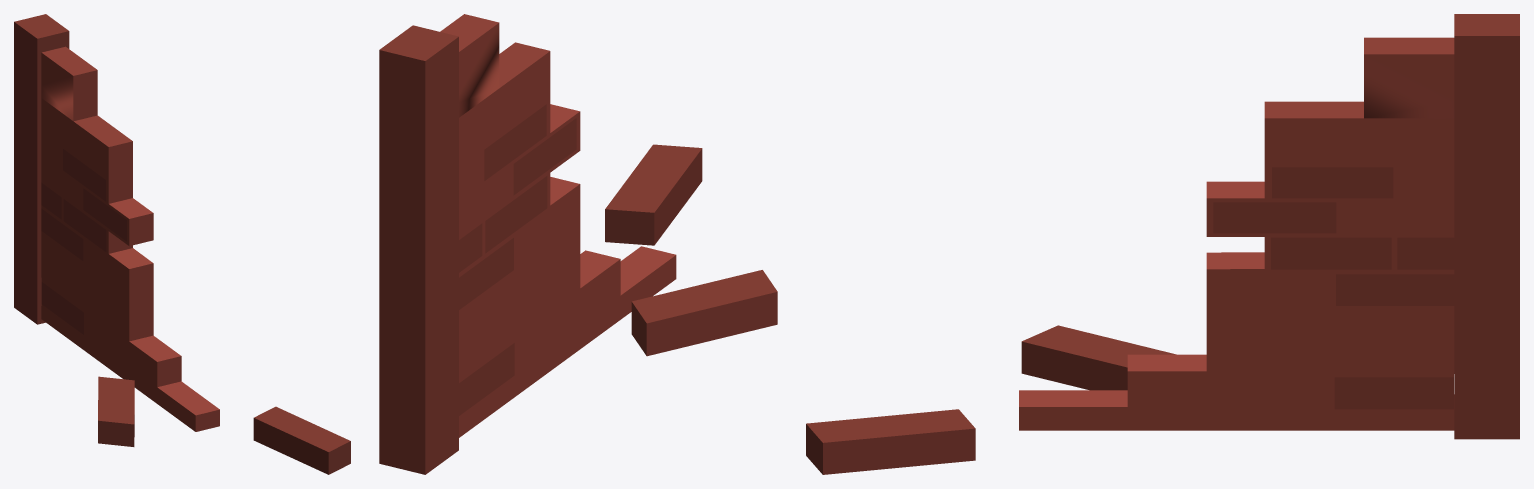
The model's file is Fence_Brick_Damaged_01.fbx.
3 views of the same model, side by side, from view 1: azimuth 30°, elevation 25°; view 2: azimuth 150°, elevation 25°; view 3: azimuth 270°, elevation 25° (orthographic). The views are drawn at different scales.
Parts seen in each view (by area): view 1: Fence_Brick_Damaged_01; view 2: Fence_Brick_Damaged_01; view 3: Fence_Brick_Damaged_01.
Boxes of the visible parts, <box> form: Fence_Brick_Damaged_01: <box>14,14,350,474</box>; Fence_Brick_Damaged_01: <box>379,14,777,474</box>; Fence_Brick_Damaged_01: <box>806,14,1519,474</box>.
Bounding box in the file's own units: 1.77 × 4.58 × 2.86.
